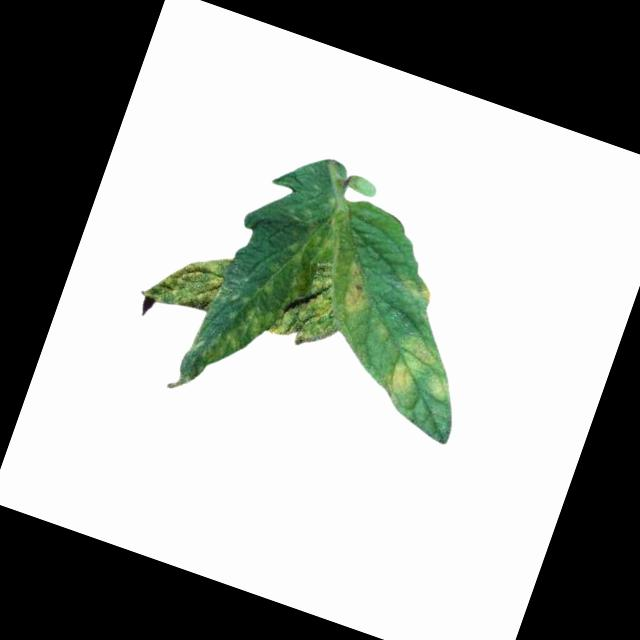Leaf_Mold: (374, 327, 467, 419), (269, 256, 352, 352), (142, 237, 229, 320), (218, 299, 273, 360), (334, 261, 371, 318), (392, 273, 435, 308)
